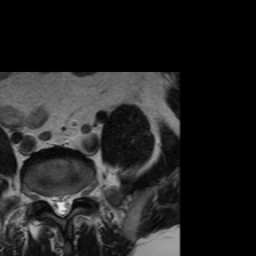CCS_normal: (57, 187, 65, 223)
LFS_stenosis: (73, 180, 81, 205)
LLS_normal: (65, 186, 73, 219)
RFS_stenosis: (40, 185, 48, 209)
RLS_normal: (48, 188, 57, 218)
